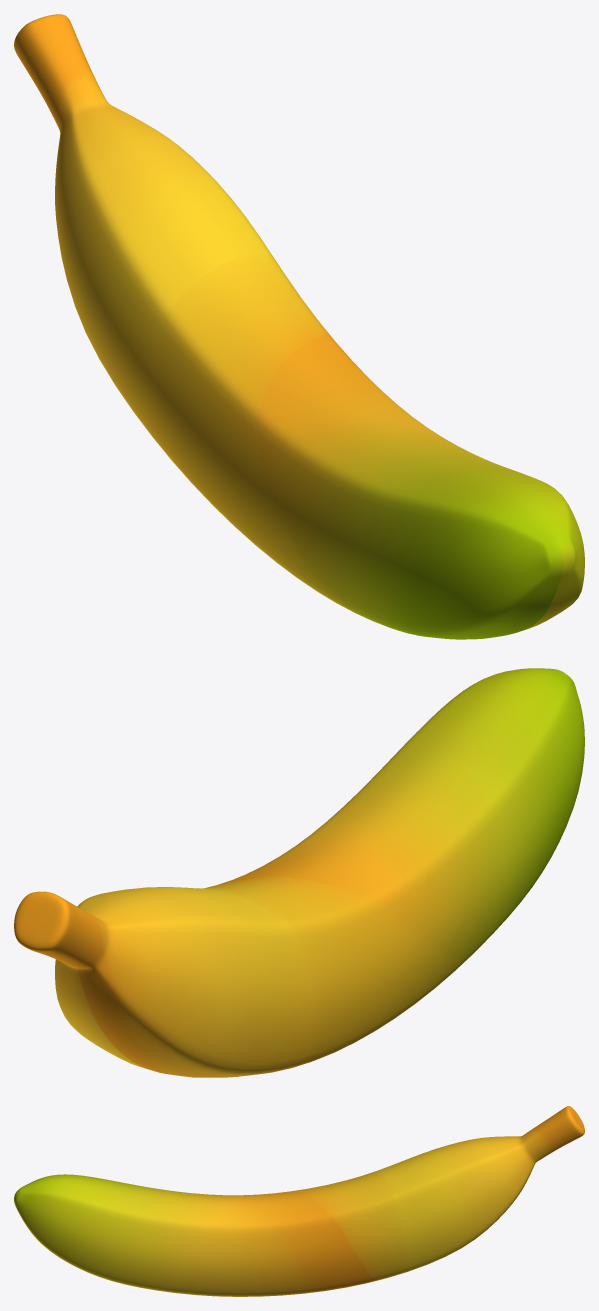
File: Banana.fbx
3 views of the same model, one above another, from view 1: azimuth 30°, elevation 25°; view 2: azimuth 150°, elevation 25°; view 3: azimuth 270°, elevation 25° (orthographic). The views are drawn at different scales.
Visible parts, largest first — view 1: Banana_low; view 2: Banana_low; view 3: Banana_low.
Boxes of the visible parts, box(x1,y1,x2,y2) form: Banana_low: box(14, 14, 584, 639); Banana_low: box(14, 668, 584, 1077); Banana_low: box(14, 1106, 584, 1296).
Bounding box in the file's own units: 332 × 56.91 × 116.
1 material, 1 textured.
